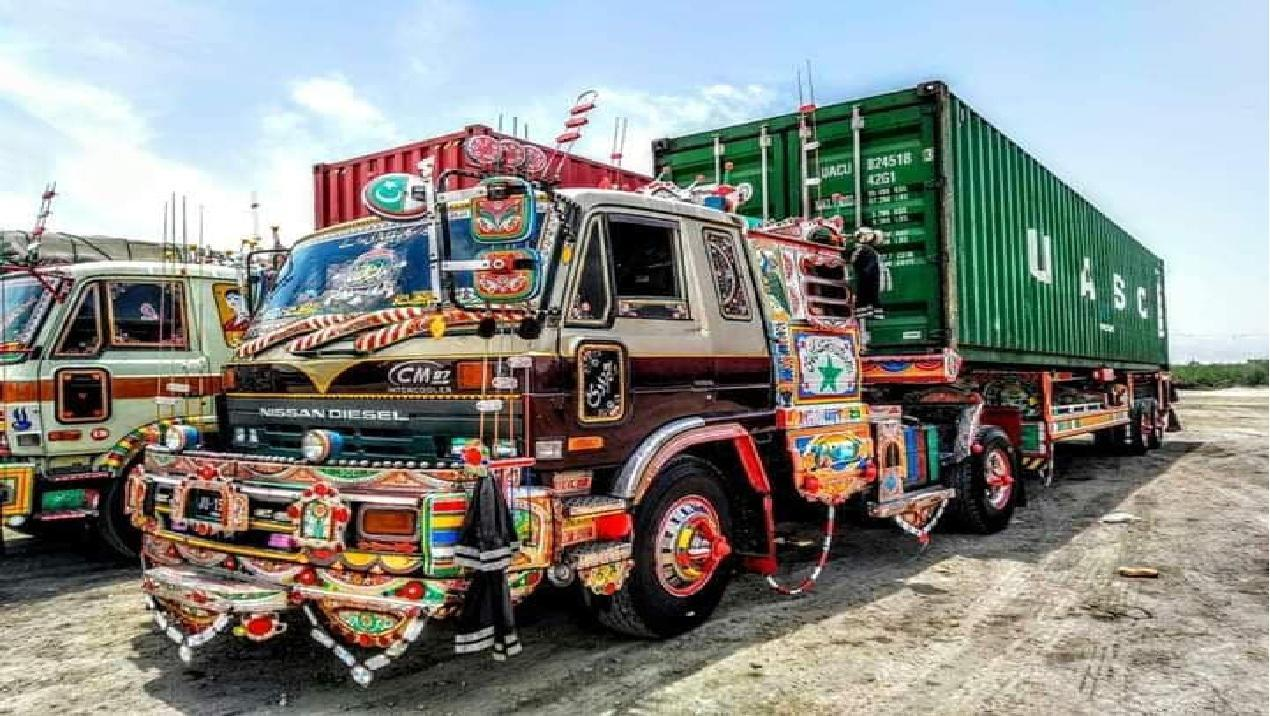truck: (120, 69, 1166, 676), (1, 235, 254, 548)
